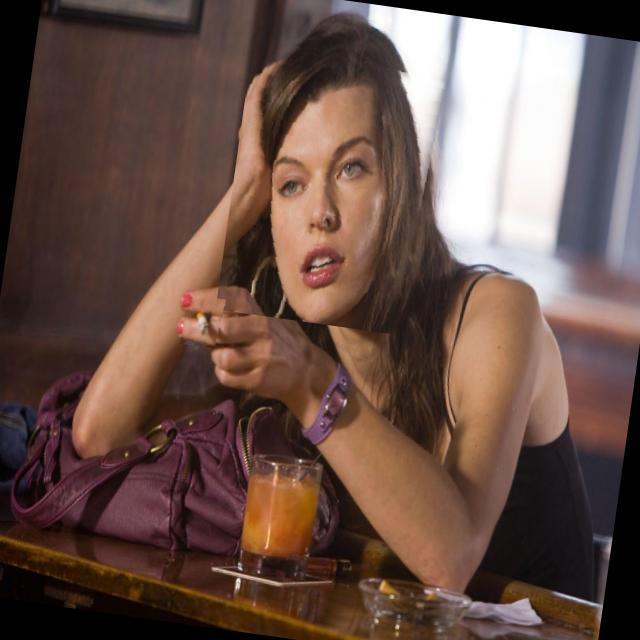cigarette: (180, 292, 227, 349)
